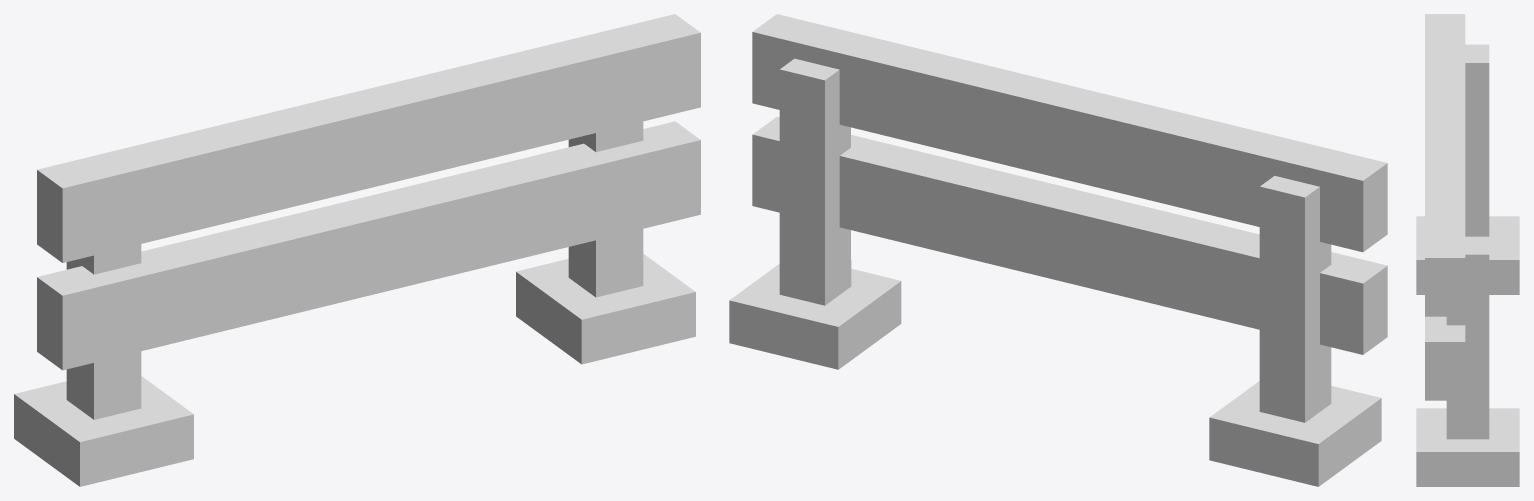
File: barrier_02.FBX
3 renders of one model, left to right at view 1: azimuth 30°, elevation 25°; view 2: azimuth 150°, elevation 25°; view 3: azimuth 270°, elevation 25°, orthographic. The views are drawn at different scales.
Visible parts, largest first — view 1: barrier_02; view 2: barrier_02; view 3: barrier_02.
Boxes of the visible parts, x1,y1,x2,y2 form: barrier_02: (14, 14, 700, 486); barrier_02: (729, 14, 1387, 486); barrier_02: (1416, 14, 1519, 486).
Size of the model in its own units: 346 by 61.91 by 154.
Materials: 1 (1 with a texture image).
